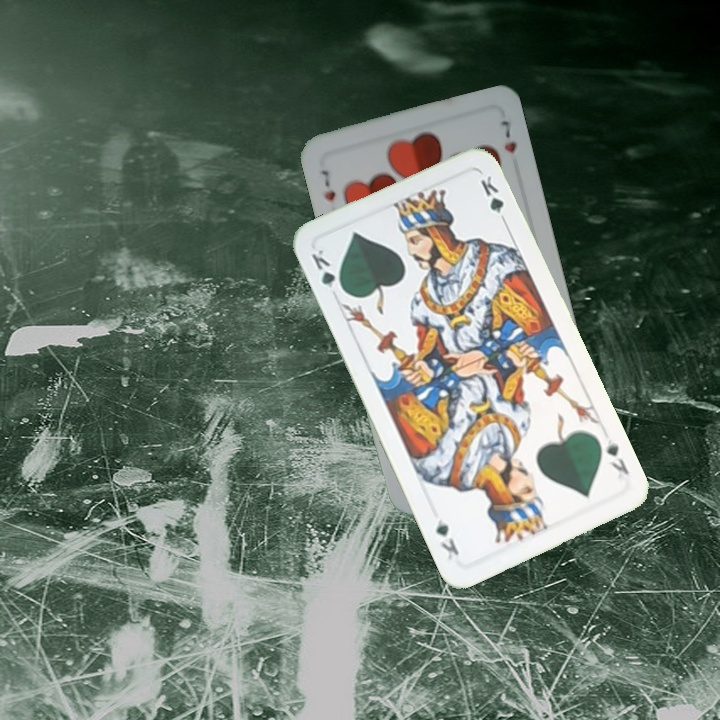GK: (307, 245, 347, 296), (602, 435, 632, 477)
H7: (317, 166, 338, 204)
